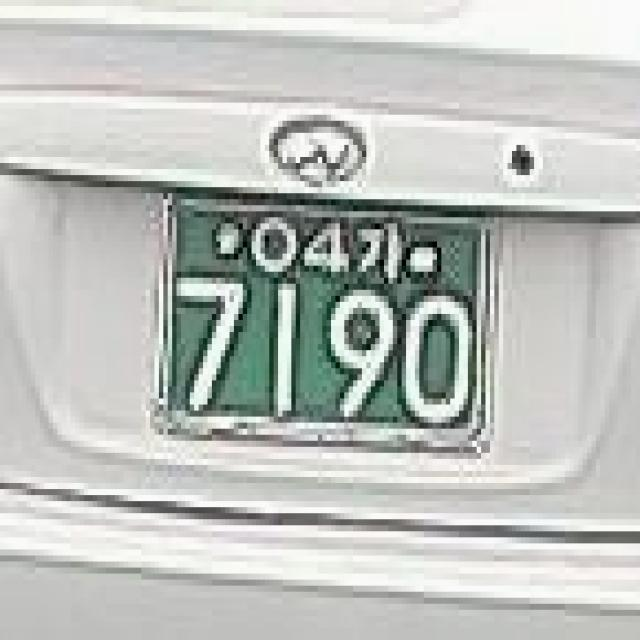illegal_plate: (139, 169, 506, 482)
